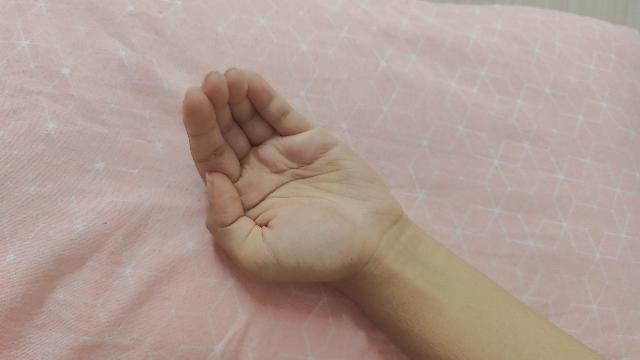sarpsheesh: (180, 68, 606, 360)
